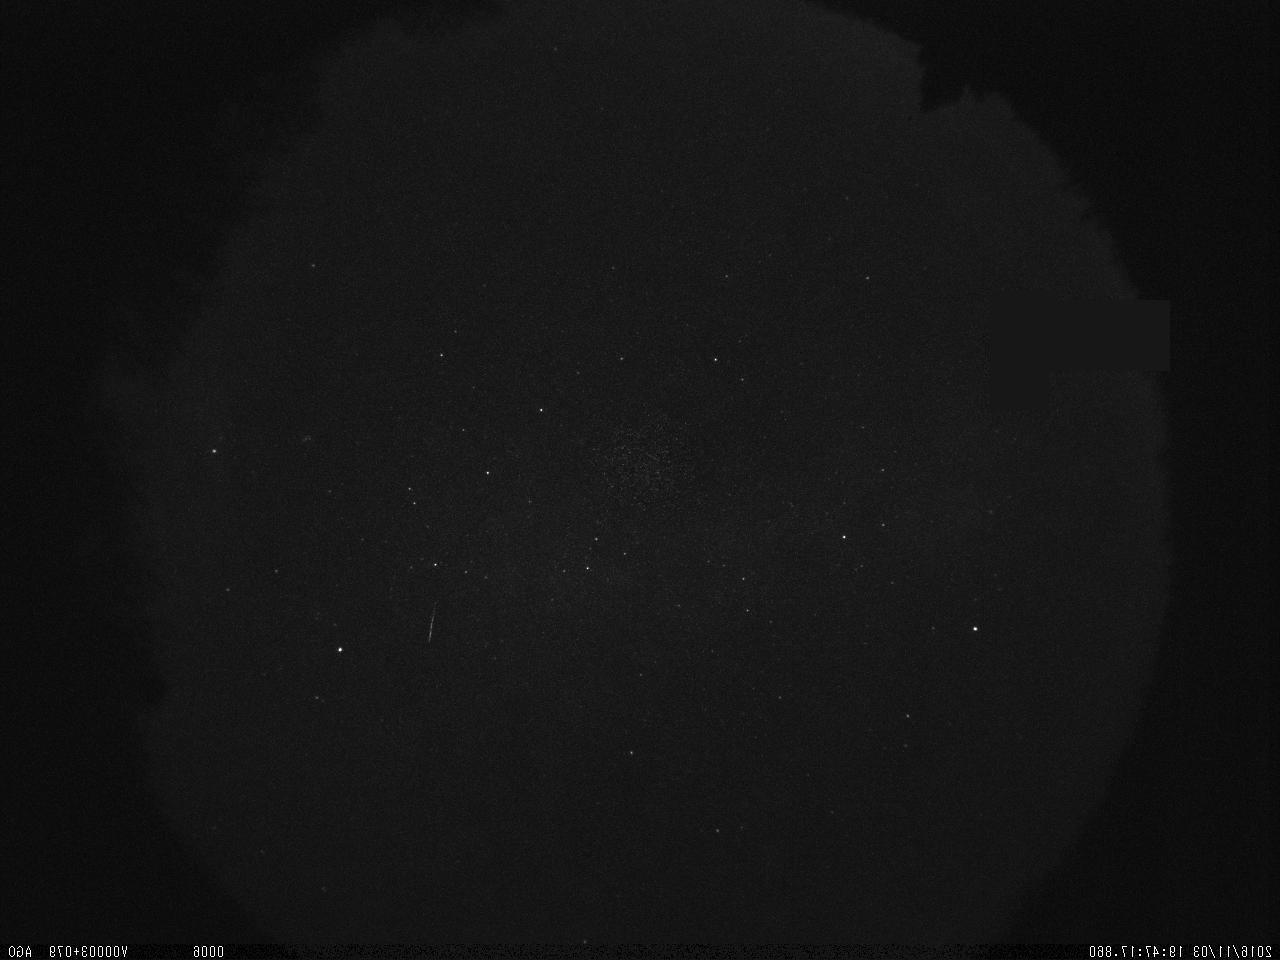meteor: (416, 594, 449, 653)
